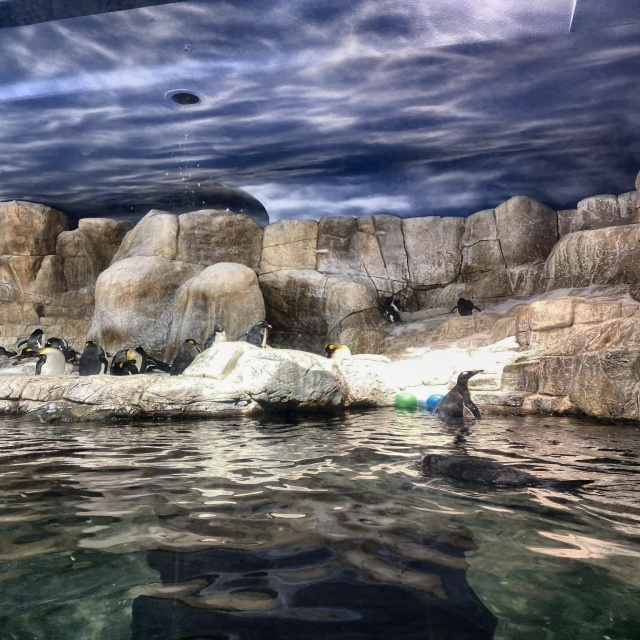penguin: (414, 453, 593, 501), (435, 369, 483, 421), (18, 346, 68, 376), (236, 321, 274, 350), (172, 338, 200, 374), (80, 341, 108, 376), (44, 337, 76, 363), (380, 295, 408, 323), (142, 355, 175, 374), (111, 344, 130, 375), (19, 328, 43, 351), (453, 297, 479, 317), (134, 344, 150, 374), (206, 325, 225, 349), (325, 342, 350, 358), (0, 348, 17, 360)
